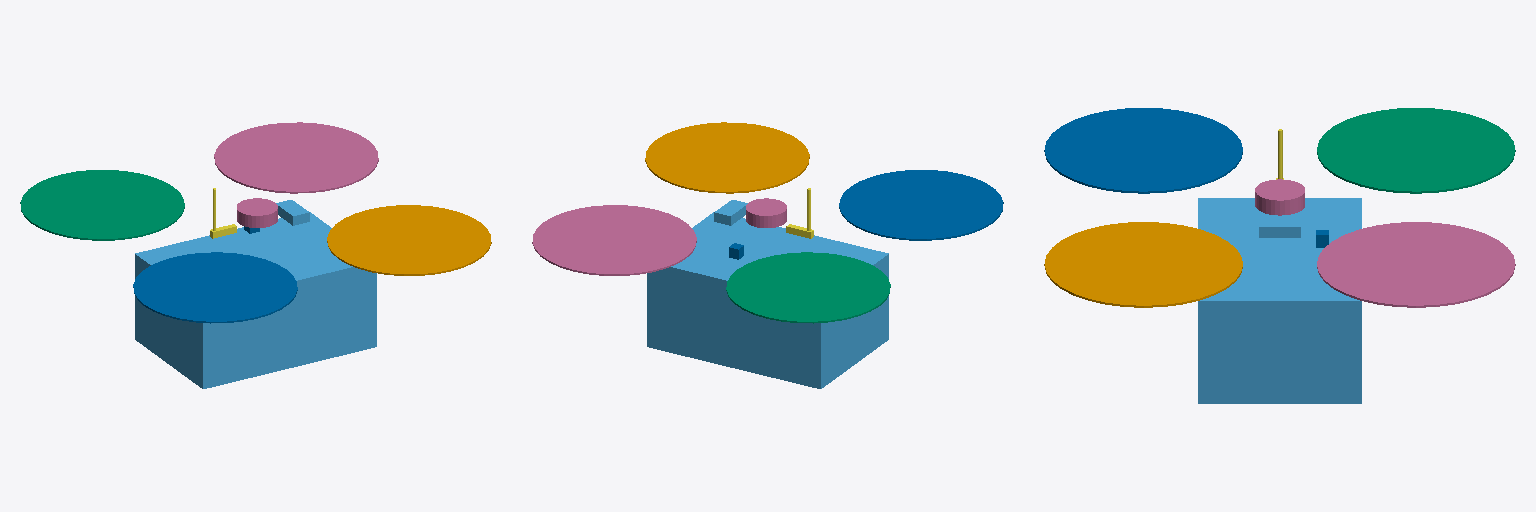
robot.urdf — thaiquiri:
<?xml version="1.0"?>
<robot name="thaiquiri" xmlns:xacro="http://ros.org/wiki/xacro">
  <webots>
        <plugin type="thaiquiri_webots.drone_driver.DroneDriver" />
        <plugin type="webots_ros2_driver::Ros2IMU">
            <enabled>True</enabled>
            <updateRate>10</updateRate>
            <alwaysOn>True</alwaysOn>
            <topicName>/drone/livox/gyro</topicName>
            <frameName>gyro_livox</frameName>
            <gyroName>gyro_livox</gyroName>
        </plugin>
        <plugin type="webots_ros2_driver::Ros2IMU">
            <enabled>True</enabled>
            <updateRate>10</updateRate>
            <alwaysOn>True</alwaysOn>
            <topicName>/drone/livox/acc</topicName>
            <frameName>accelerometer_livox</frameName>
            <accelerometerName>accelerometer_livox</accelerometerName>
        </plugin>
        <plugin type="webots_ros2_driver::Ros2IMU">
            <enabled>True</enabled>
            <updateRate>125</updateRate>
            <alwaysOn>True</alwaysOn>
            <topicName>/drone/cube/gyro</topicName>
            <frameName>gyro_cube</frameName>
            <gyroName>gyro_cube</gyroName>
        </plugin>
        <plugin type="webots_ros2_driver::Ros2IMU">
            <enabled>True</enabled>
            <updateRate>125</updateRate>
            <alwaysOn>True</alwaysOn>
            <topicName>/drone/cube/acc</topicName>
            <frameName>accelerometer_cube</frameName>
            <accelerometerName>accelerometer_cube</accelerometerName>
        </plugin>
          <device reference="altimeter_cube" type="Altimeter">
            <ros>
                <enabled>true</enabled>
                <updateRate>10</updateRate>
                <topicName>/altimeter_cube</topicName>
                <alwaysOn>true</alwaysOn>
            </ros>
        </device>
  </webots>
  <!-- <device reference="lidar_livox" type="Lidar">
      <ros>
          <enabled>true</enabled>
          <updateRate>10</updateRate>
          <topicName>/scan</topicName>
          <alwaysOn>true</alwaysOn>
      </ros>
  </device>
  <device reference="camera_right" type="Camera">
      <ros>
          <enabled>true</enabled>
          <updateRate>10</updateRate>
          <topicName>/camera_right</topicName>
          <alwaysOn>true</alwaysOn>
      </ros>
  </device>
  <device reference="camera_left" type="Camera">
      <ros>
          <enabled>true</enabled>
          <updateRate>10</updateRate>
          <topicName>/camera_left</topicName>
          <alwaysOn>true</alwaysOn>
      </ros>
  </device>
  <device reference="compass_cube" type="Compass">
      <ros>
          <enabled>true</enabled>
          <updateRate>10</updateRate>
          <topicName>/compass_cube</topicName>
          <alwaysOn>true</alwaysOn>
      </ros>
  </device> -->
  <link name="base_footprint"/>
  <link name="base_link">
    <visual>
      <origin xyz="0 0.155 0" rpy="0 0 0"/>
      <geometry>
        <box size="0.36 0.25 0.53"/>
      </geometry>
    </visual>
    <collision>
      <origin xyz="0 0.155 0" rpy="0 0 0"/>
      <geometry>
        <box size="0.36 0.25 0.53"/>
      </geometry>
    </collision>
  </link>
  <joint name="base_footprint_to_base_link" type="fixed">
    <parent link="base_footprint"/>
    <child link="base_link"/>
    <origin xyz="0 0 0" rpy="1.5708 0 1.5708"/>
  </joint>
  <link name="motor_front_left_bb">
  </link>
  <joint name="base_link_motor_front_left_bb_joint" type="fixed">
    <parent link="base_link"/>
    <child link="motor_front_left_bb"/>
    <origin xyz="0.295 0.346 0.297" rpy="-1.570795 0 0"/>
  </joint>
  <link name="motor_front_right_bb">
  </link>
  <joint name="base_link_motor_front_right_bb_joint" type="fixed">
    <parent link="base_link"/>
    <child link="motor_front_right_bb"/>
    <origin xyz="-0.297 0.346 0.297" rpy="-1.570795 0 0"/>
  </joint>
  <link name="motor_2_bb">
  </link>
  <joint name="base_link_motor_2_bb_joint" type="fixed">
    <parent link="base_link"/>
    <child link="motor_2_bb"/>
    <origin xyz="-0.297 0.346 -0.295" rpy="-1.570795 0 0"/>
  </joint>
  <link name="motor_1_bb">
  </link>
  <joint name="base_link_motor_1_bb_joint" type="fixed">
    <parent link="base_link"/>
    <child link="motor_1_bb"/>
    <origin xyz="0.295 0.346 -0.295" rpy="-1.570795 0 0"/>
  </joint>
  <link name="solid">
    <visual>
      <origin xyz="0 0 0" rpy="1.5708 0 0"/>
      <geometry>
        <cylinder radius="0.217" length="0.005"/>
      </geometry>
    </visual>
    <collision>
      <origin xyz="0 0 0" rpy="1.5708 0 0"/>
      <geometry>
        <cylinder radius="0.217" length="0.005"/>
      </geometry>
    </collision>
  </link>
  <joint name="base_link_solid_joint" type="fixed">
    <parent link="base_link"/>
    <child link="solid"/>
    <origin xyz="0.2975 0.38 0.295" rpy="0 0 0"/>
  </joint>
  <link name="solid_0">
    <visual>
      <origin xyz="0 0 0" rpy="1.5708 0 0"/>
      <geometry>
        <cylinder radius="0.217" length="0.005"/>
      </geometry>
    </visual>
    <collision>
      <origin xyz="0 0 0" rpy="1.5708 0 0"/>
      <geometry>
        <cylinder radius="0.217" length="0.005"/>
      </geometry>
    </collision>
  </link>
  <joint name="base_link_solid_0_joint" type="fixed">
    <parent link="base_link"/>
    <child link="solid_0"/>
    <origin xyz="0.2975 0.38 0.295" rpy="0 0 0"/>
  </joint>
  <link name="solid_1">
    <visual>
      <origin xyz="0 0 0" rpy="1.5708 0 0"/>
      <geometry>
        <cylinder radius="0.217" length="0.005"/>
      </geometry>
    </visual>
    <collision>
      <origin xyz="0 0 0" rpy="1.5708 0 0"/>
      <geometry>
        <cylinder radius="0.217" length="0.005"/>
      </geometry>
    </collision>
  </link>
  <joint name="base_link_solid_1_joint" type="fixed">
    <parent link="base_link"/>
    <child link="solid_1"/>
    <origin xyz="-0.2975 0.38 0.295" rpy="0 0 0"/>
  </joint>
  <link name="solid_2">
    <visual>
      <origin xyz="0 0 0" rpy="1.5708 0 0"/>
      <geometry>
        <cylinder radius="0.217" length="0.005"/>
      </geometry>
    </visual>
    <collision>
      <origin xyz="0 0 0" rpy="1.5708 0 0"/>
      <geometry>
        <cylinder radius="0.217" length="0.005"/>
      </geometry>
    </collision>
  </link>
  <joint name="base_link_solid_2_joint" type="fixed">
    <parent link="base_link"/>
    <child link="solid_2"/>
    <origin xyz="-0.2975 0.38 0.295" rpy="0 0 0"/>
  </joint>
  <link name="solid_3">
    <visual>
      <origin xyz="0 0 0" rpy="1.5708 0 0"/>
      <geometry>
        <cylinder radius="0.217" length="0.005"/>
      </geometry>
    </visual>
    <collision>
      <origin xyz="0 0 0" rpy="1.5708 0 0"/>
      <geometry>
        <cylinder radius="0.217" length="0.005"/>
      </geometry>
    </collision>
  </link>
  <joint name="base_link_solid_3_joint" type="fixed">
    <parent link="base_link"/>
    <child link="solid_3"/>
    <origin xyz="0.2975 0.38 -0.295" rpy="0 0 0"/>
  </joint>
  <link name="solid_4">
    <visual>
      <origin xyz="0 0 0" rpy="1.5708 0 0"/>
      <geometry>
        <cylinder radius="0.217" length="0.005"/>
      </geometry>
    </visual>
    <collision>
      <origin xyz="0 0 0" rpy="1.5708 0 0"/>
      <geometry>
        <cylinder radius="0.217" length="0.005"/>
      </geometry>
    </collision>
  </link>
  <joint name="base_link_solid_4_joint" type="fixed">
    <parent link="base_link"/>
    <child link="solid_4"/>
    <origin xyz="0.2975 0.38 -0.295" rpy="0 0 0"/>
  </joint>
  <link name="solid_5">
    <visual>
      <origin xyz="0 0 0" rpy="1.5708 0 0"/>
      <geometry>
        <cylinder radius="0.217" length="0.005"/>
      </geometry>
    </visual>
    <collision>
      <origin xyz="0 0 0" rpy="1.5708 0 0"/>
      <geometry>
        <cylinder radius="0.217" length="0.005"/>
      </geometry>
    </collision>
  </link>
  <joint name="base_link_solid_5_joint" type="fixed">
    <parent link="base_link"/>
    <child link="solid_5"/>
    <origin xyz="-0.2975 0.38 -0.295" rpy="0 0 0"/>
  </joint>
  <link name="solid_6">
    <visual>
      <origin xyz="0 0 0" rpy="1.5708 0 0"/>
      <geometry>
        <cylinder radius="0.217" length="0.005"/>
      </geometry>
    </visual>
    <collision>
      <origin xyz="0 0 0" rpy="1.5708 0 0"/>
      <geometry>
        <cylinder radius="0.217" length="0.005"/>
      </geometry>
    </collision>
  </link>
  <joint name="base_link_solid_6_joint" type="fixed">
    <parent link="base_link"/>
    <child link="solid_6"/>
    <origin xyz="-0.2975 0.38 -0.295" rpy="0 0 0"/>
  </joint>
  <link name="lidar_livox">
    <visual>
      <origin xyz="0.0005 0.0045 0.023" rpy="0 0 0"/>
      <geometry>
        <cylinder radius="0.055" length="0.036"/>
      </geometry>
    </visual>
    <collision>
      <origin xyz="0.0005 0.0045 0.023" rpy="0 0 0"/>
      <geometry>
        <cylinder radius="0.055" length="0.036"/>
      </geometry>
    </collision>
  </link>
  <joint name="base_link_lidar_livox_joint" type="fixed">
    <parent link="base_link"/>
    <child link="lidar_livox"/>
    <origin xyz="0 0.43 0" rpy="1.5708 0 0"/>
  </joint>
  <link name="gyro_livox">
  </link>
  <joint name="lidar_livox_gyro_livox_joint" type="fixed">
    <parent link="lidar_livox"/>
    <child link="gyro_livox"/>
    <origin xyz="0 0 0" rpy="0 0 0"/>
  </joint>
  <link name="accelerometer_livox">
  </link>
  <joint name="lidar_livox_accelerometer_livox_joint" type="fixed">
    <parent link="lidar_livox"/>
    <child link="accelerometer_livox"/>
    <origin xyz="0 0 0" rpy="0 0 0"/>
  </joint>
  <link name="ZED_X_Mini_camera">
    <visual>
      <origin xyz="0 0.004 -0.029" rpy="0 0 0"/>
      <geometry>
        <box size="0.093 0.028 0.05"/>
      </geometry>
    </visual>
    <collision>
      <origin xyz="0 0.004 -0.029" rpy="0 0 0"/>
      <geometry>
        <box size="0.093 0.028 0.05"/>
      </geometry>
    </collision>
  </link>
  <joint name="base_link_ZED_X_Mini_camera_joint" type="fixed">
    <parent link="base_link"/>
    <child link="ZED_X_Mini_camera"/>
    <origin xyz="0 0.38 0.14" rpy="0 0 0"/>
  </joint>
  <link name="camera_right">
  </link>
  <joint name="ZED_X_Mini_camera_camera_right_joint" type="fixed">
    <parent link="ZED_X_Mini_camera"/>
    <child link="camera_right"/>
    <!-- Optical frame: x right, y down, z forward (not Webots Camera FLU axes). -->
    <origin xyz="0.025 0.003 0" rpy="0 0 0"/>
  </joint>
  <link name="camera_left">
  </link>
  <joint name="ZED_X_Mini_camera_camera_left_joint" type="fixed">
    <parent link="ZED_X_Mini_camera"/>
    <child link="camera_left"/>
    <origin xyz="-0.025 0.003 0" rpy="0 0 0"/>
  </joint>
  <link name="cube_orange">
    <visual>
      <origin xyz="0 0 0" rpy="0 0 0"/>
      <geometry>
        <box size="0.03 0.03 0.03"/>
      </geometry>
    </visual>
    <collision>
      <origin xyz="0 0 0" rpy="0 0 0"/>
      <geometry>
        <box size="0.03 0.03 0.03"/>
      </geometry>
    </collision>
  </link>
  <joint name="base_link_cube_orange_joint" type="fixed">
    <parent link="base_link"/>
    <child link="cube_orange"/>
    <origin xyz="0.093 0.325 0.042" rpy="0 0 0"/>
  </joint>
  <link name="compass_cube">
  </link>
  <joint name="cube_orange_compass_cube_joint" type="fixed">
    <parent link="cube_orange"/>
    <child link="compass_cube"/>
    <origin xyz="0 0 0" rpy="0 0 0"/>
  </joint>
  <link name="altimeter_cube">
  </link>
  <joint name="cube_orange_altimeter_cube_joint" type="fixed">
    <parent link="cube_orange"/>
    <child link="altimeter_cube"/>
    <origin xyz="0 0 0" rpy="0 0 0"/>
  </joint>
  <link name="accelerometer_cube">
  </link>
  <joint name="cube_orange_accelerometer_cube_joint" type="fixed">
    <parent link="cube_orange"/>
    <child link="accelerometer_cube"/>
    <origin xyz="0 0 0" rpy="0 0 0"/>
  </joint>
  <link name="gyro_cube">
  </link>
  <joint name="cube_orange_gyro_cube_joint" type="fixed">
    <parent link="cube_orange"/>
    <child link="gyro_cube"/>
    <origin xyz="0 0 0" rpy="0 0 0"/>
  </joint>
  <!-- Cube data rotated from native (left, up, forward) to ROS FLU. -->
  <link name="imu_link"/>
  <joint name="cube_orange_imu_joint" type="fixed">
    <parent link="cube_orange"/>
    <child link="imu_link"/>
    <origin xyz="0 0 0" rpy="-1.5707963267948966 -1.5707963267948966 0"/>
  </joint>
  <link name="battery">
  </link>
  <joint name="base_link_battery_joint" type="fixed">
    <parent link="base_link"/>
    <child link="battery"/>
    <origin xyz="0 0.262 -0.025" rpy="0 0 0"/>
  </joint>
  <link name="antenna">
    <visual>
      <origin xyz="0 0.07 -0.027" rpy="-1.570795 0 0"/>
      <geometry>
        <cylinder radius="0.005" length="0.12"/>
      </geometry>
    </visual>
    <collision>
      <origin xyz="0 0.07 -0.027" rpy="-1.570795 0 0"/>
      <geometry>
        <cylinder radius="0.005" length="0.12"/>
      </geometry>
    </collision>
    <visual>
      <geometry>
        <box size="0.017 0.019 0.075"/>
      </geometry>
    </visual>
    <collision>
      <geometry>
        <box size="0.017 0.019 0.075"/>
      </geometry>
    </collision>
  </link>
  <joint name="base_link_antenna_joint" type="fixed">
    <parent link="base_link"/>
    <child link="antenna"/>
    <origin xyz="0.0005 0.3785 -0.0988" rpy="0 0 0"/>
  </joint>
  <link name="solid_7">
  </link>
  <joint name="base_link_solid_7_joint" type="fixed">
    <parent link="base_link"/>
    <child link="solid_7"/>
    <origin xyz="-0.03 0.322 0" rpy="0 0 0"/>
  </joint>
</robot>

--- What the picture shows (computed from the rendered views, not written in the file) ---
The picture shows the robot from 3 angles, left to right: view 1: azimuth 30°, elevation 25°; view 2: azimuth 150°, elevation 25°; view 3: azimuth 270°, elevation 25°; orthographic projection.
Model thaiquiri with 29 links and 28 joints (28 fixed), rooted at base_footprint, posed every joint at zero.
Visible links, largest first — view 1: base_link, solid, solid_1, solid_3, solid_5, lidar_livox, ZED_X_Mini_camera; view 2: base_link, solid_1, solid, solid_5, solid_3, lidar_livox, ZED_X_Mini_camera; view 3: base_link, solid, solid_1, solid_3, solid_5, lidar_livox, ZED_X_Mini_camera.
Link boxes in pixels (x1,y1,x2,y2): base_link: [135, 211, 376, 388]; solid: [214, 122, 378, 193]; solid_1: [327, 205, 491, 275]; solid_3: [20, 170, 184, 240]; solid_5: [133, 252, 297, 323]; lidar_livox: [237, 198, 277, 227]; ZED_X_Mini_camera: [276, 200, 309, 225]; base_link: [647, 211, 888, 388]; solid_1: [645, 122, 809, 193]; solid: [532, 205, 696, 275]; solid_5: [839, 170, 1003, 240]; solid_3: [726, 252, 890, 323]; lidar_livox: [746, 198, 786, 227]; ZED_X_Mini_camera: [714, 200, 747, 225]; base_link: [1198, 198, 1361, 403]; solid: [1317, 222, 1515, 307]; solid_1: [1044, 222, 1242, 307]; solid_3: [1317, 108, 1515, 193]; solid_5: [1044, 108, 1242, 193]; lidar_livox: [1255, 179, 1304, 215]; ZED_X_Mini_camera: [1259, 217, 1300, 237].
Size in the robot's own frame: 1.02 by 1.03 by 0.4785 metres.
Geometry: primitives only (box / cylinder / sphere), no mesh files.
